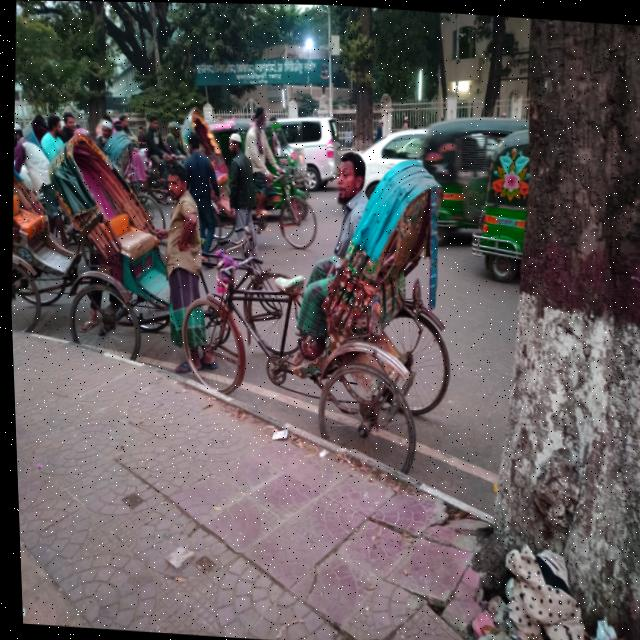rikshaw: (185, 144, 452, 448), (31, 123, 296, 386)
